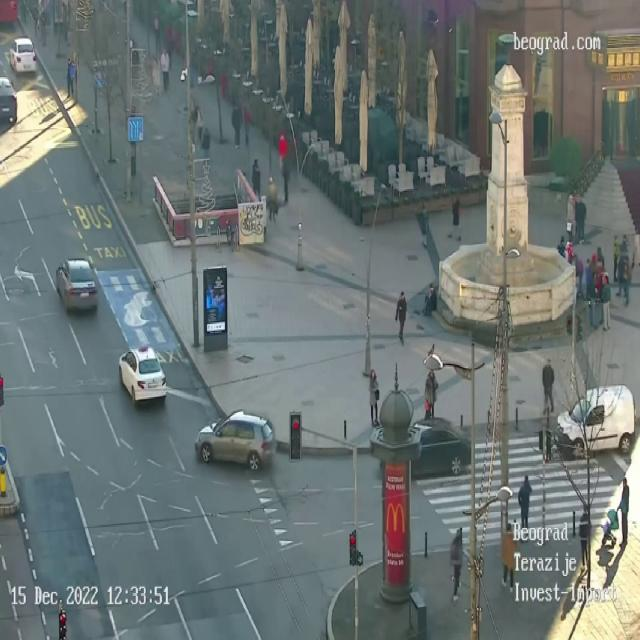car: (556, 384, 635, 456), (383, 417, 471, 474), (195, 410, 276, 470), (118, 344, 167, 404), (56, 257, 98, 313), (9, 37, 37, 73), (0, 76, 17, 124)
